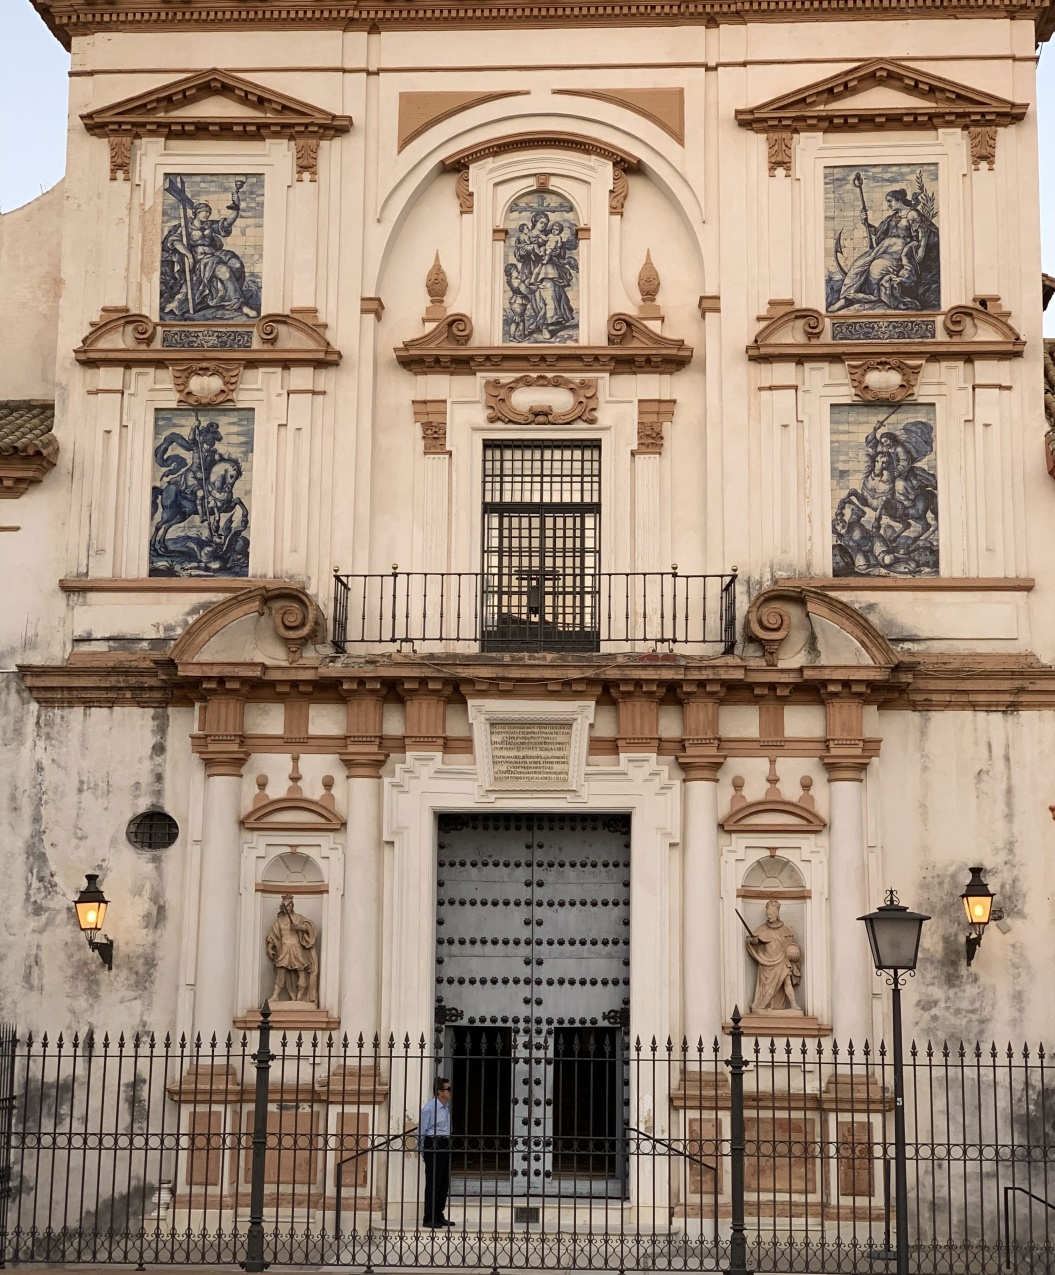fronton: (741, 56, 1023, 132), (76, 64, 347, 140)
fronton-curvo: (713, 807, 825, 844), (234, 807, 344, 843)
fronton-partido: (161, 580, 907, 699), (392, 312, 695, 371), (749, 303, 1021, 367), (84, 312, 334, 372)
vano-adintelado: (385, 775, 667, 1222), (449, 414, 629, 657)
